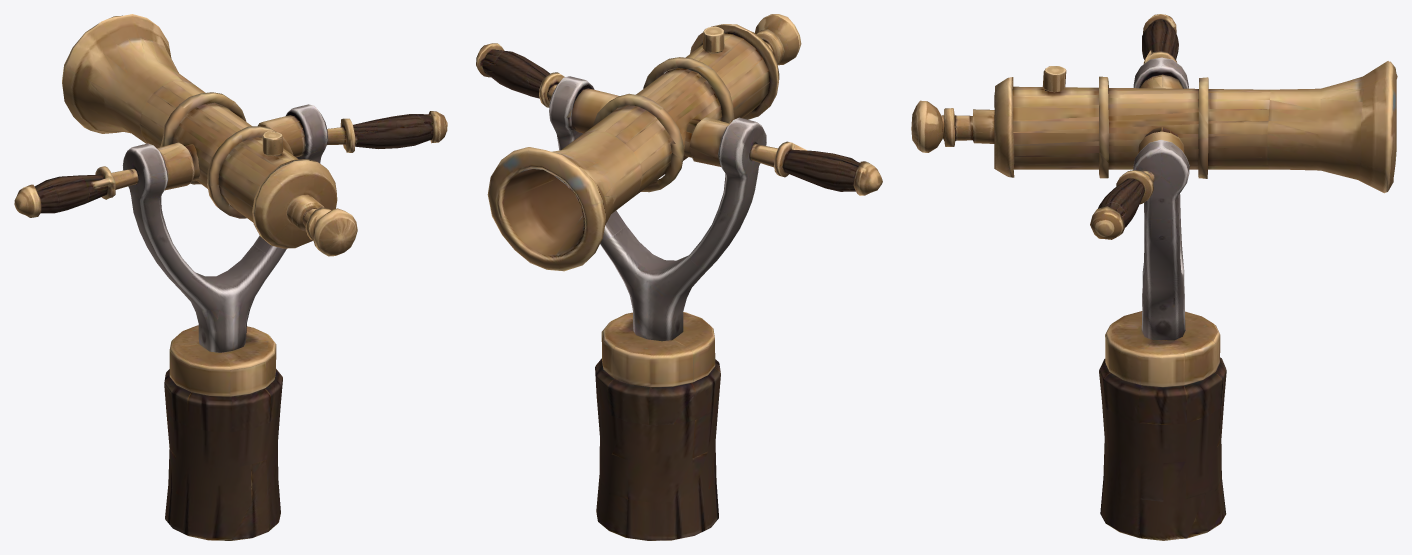
File: swivel-gun.glb
3 views of the same model, side by side, from view 1: azimuth 30°, elevation 25°; view 2: azimuth 150°, elevation 25°; view 3: azimuth 270°, elevation 25° (orthographic). The views are drawn at different scales.
Size of the model in its own units: 1.6 by 1.6 by 1.58.
Materials: 1 (1 with a texture image).
